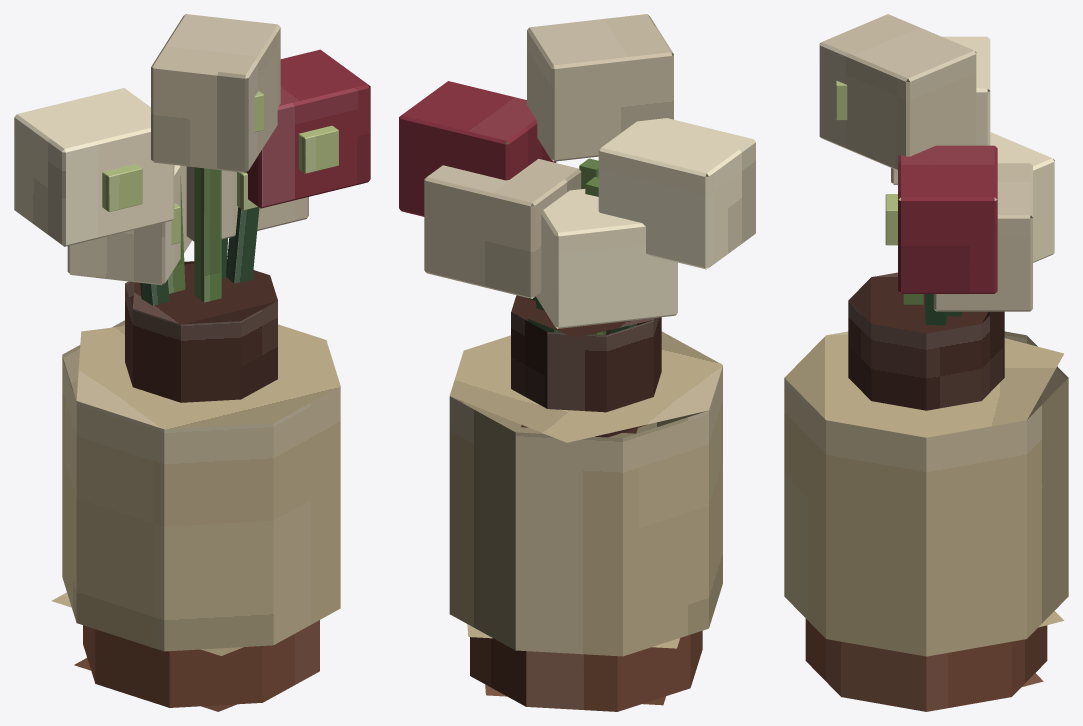
Rendered from flower_centerpiece.glb.
3 renders of one model, left to right at view 1: azimuth 30°, elevation 25°; view 2: azimuth 150°, elevation 25°; view 3: azimuth 270°, elevation 25°, orthographic.
Visible parts, largest first — view 1: VaseBody, Flower_1, Flower_2, VaseNeck, VaseBase, Flower_3, Flower_4, Stem_2, Flower_5, Stem_3, FlowerCenter_1, FlowerCenter_3 (+2 smaller); view 2: VaseBody, Flower_1, Flower_2, Flower_5, Flower_4, VaseNeck, VaseBase, Flower_3; view 3: VaseBody, Flower_2, VaseNeck, Flower_3, VaseBase, Flower_5, Flower_4, Flower_1, FlowerCenter_3, Stem_3, FlowerCenter_2.
Part boxes in pixels (box(x1,y1,x2,y2)): VaseBody: box(52, 320, 340, 655); Flower_1: box(14, 88, 174, 246); Flower_2: box(151, 14, 280, 172); VaseNeck: box(125, 261, 277, 402); VaseBase: box(74, 620, 319, 711); Flower_3: box(246, 49, 370, 208); Flower_4: box(67, 165, 191, 285); Stem_2: box(194, 167, 221, 302); Flower_5: box(186, 166, 308, 241); Stem_3: box(226, 207, 259, 283); FlowerCenter_1: box(102, 164, 142, 211); FlowerCenter_3: box(298, 125, 338, 173); VaseBody: box(449, 331, 722, 656); Flower_1: box(598, 118, 755, 269); Flower_2: box(527, 14, 673, 161); Flower_5: box(424, 159, 581, 298); Flower_4: box(531, 189, 677, 328); VaseNeck: box(511, 295, 661, 437); VaseBase: box(470, 630, 702, 711); Flower_3: box(399, 81, 556, 216); VaseBody: box(784, 331, 1068, 656); Flower_2: box(819, 14, 976, 170); VaseNeck: box(848, 272, 1004, 410); Flower_3: box(898, 145, 997, 293); VaseBase: box(805, 618, 1047, 711); Flower_5: box(933, 163, 1032, 311); Flower_4: box(990, 132, 1054, 262); Flower_1: box(891, 36, 990, 184); FlowerCenter_3: box(885, 194, 900, 245); Stem_3: box(925, 294, 946, 325); FlowerCenter_2: box(836, 80, 847, 120).
Size of the model in its own units: 0.5 by 0.955 by 0.4.
1 material, 1 textured.
